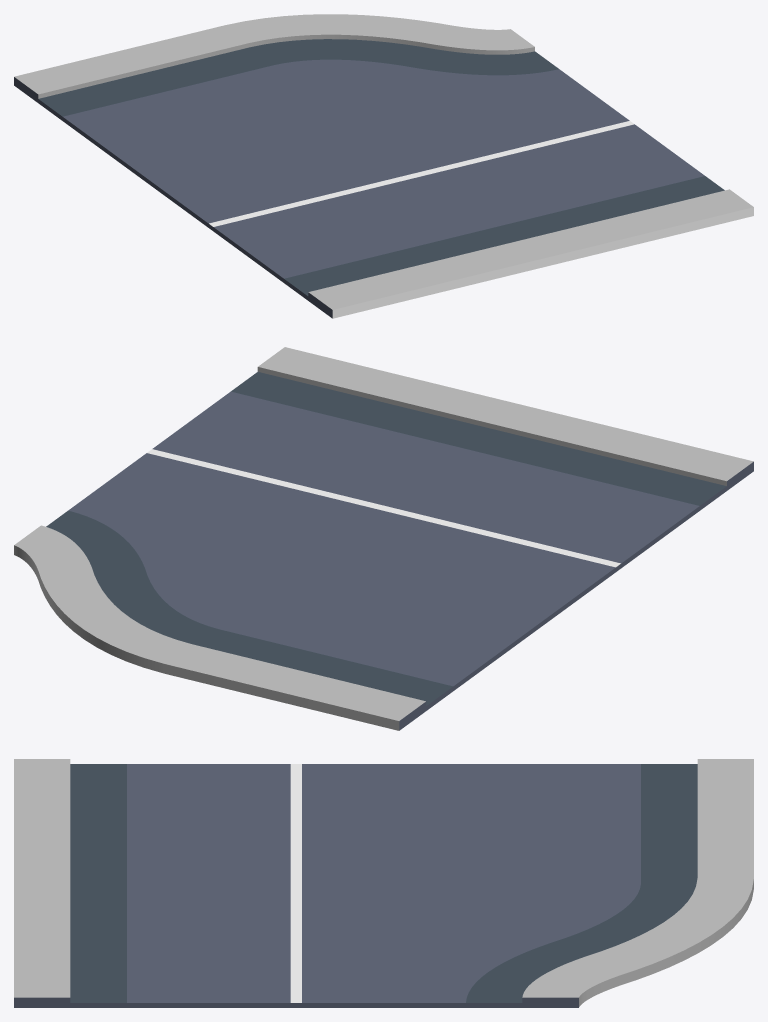
The model's file is SM_Roadside_Entry.fbx.
3 renders of one model, top to bottom at view 1: azimuth 30°, elevation 25°; view 2: azimuth 150°, elevation 25°; view 3: azimuth 270°, elevation 25°, orthographic. The views are drawn at different scales.
Parts seen in each view (by area): view 1: SM_Roadside_Entry; view 2: SM_Roadside_Entry; view 3: SM_Roadside_Entry.
Boxes of the visible parts, bbox=[...] form: SM_Roadside_Entry: bbox=[14, 14, 753, 318]; SM_Roadside_Entry: bbox=[14, 347, 753, 730]; SM_Roadside_Entry: bbox=[14, 759, 753, 1007].
Bounding box in the file's own units: 1000 × 20 × 1310.
